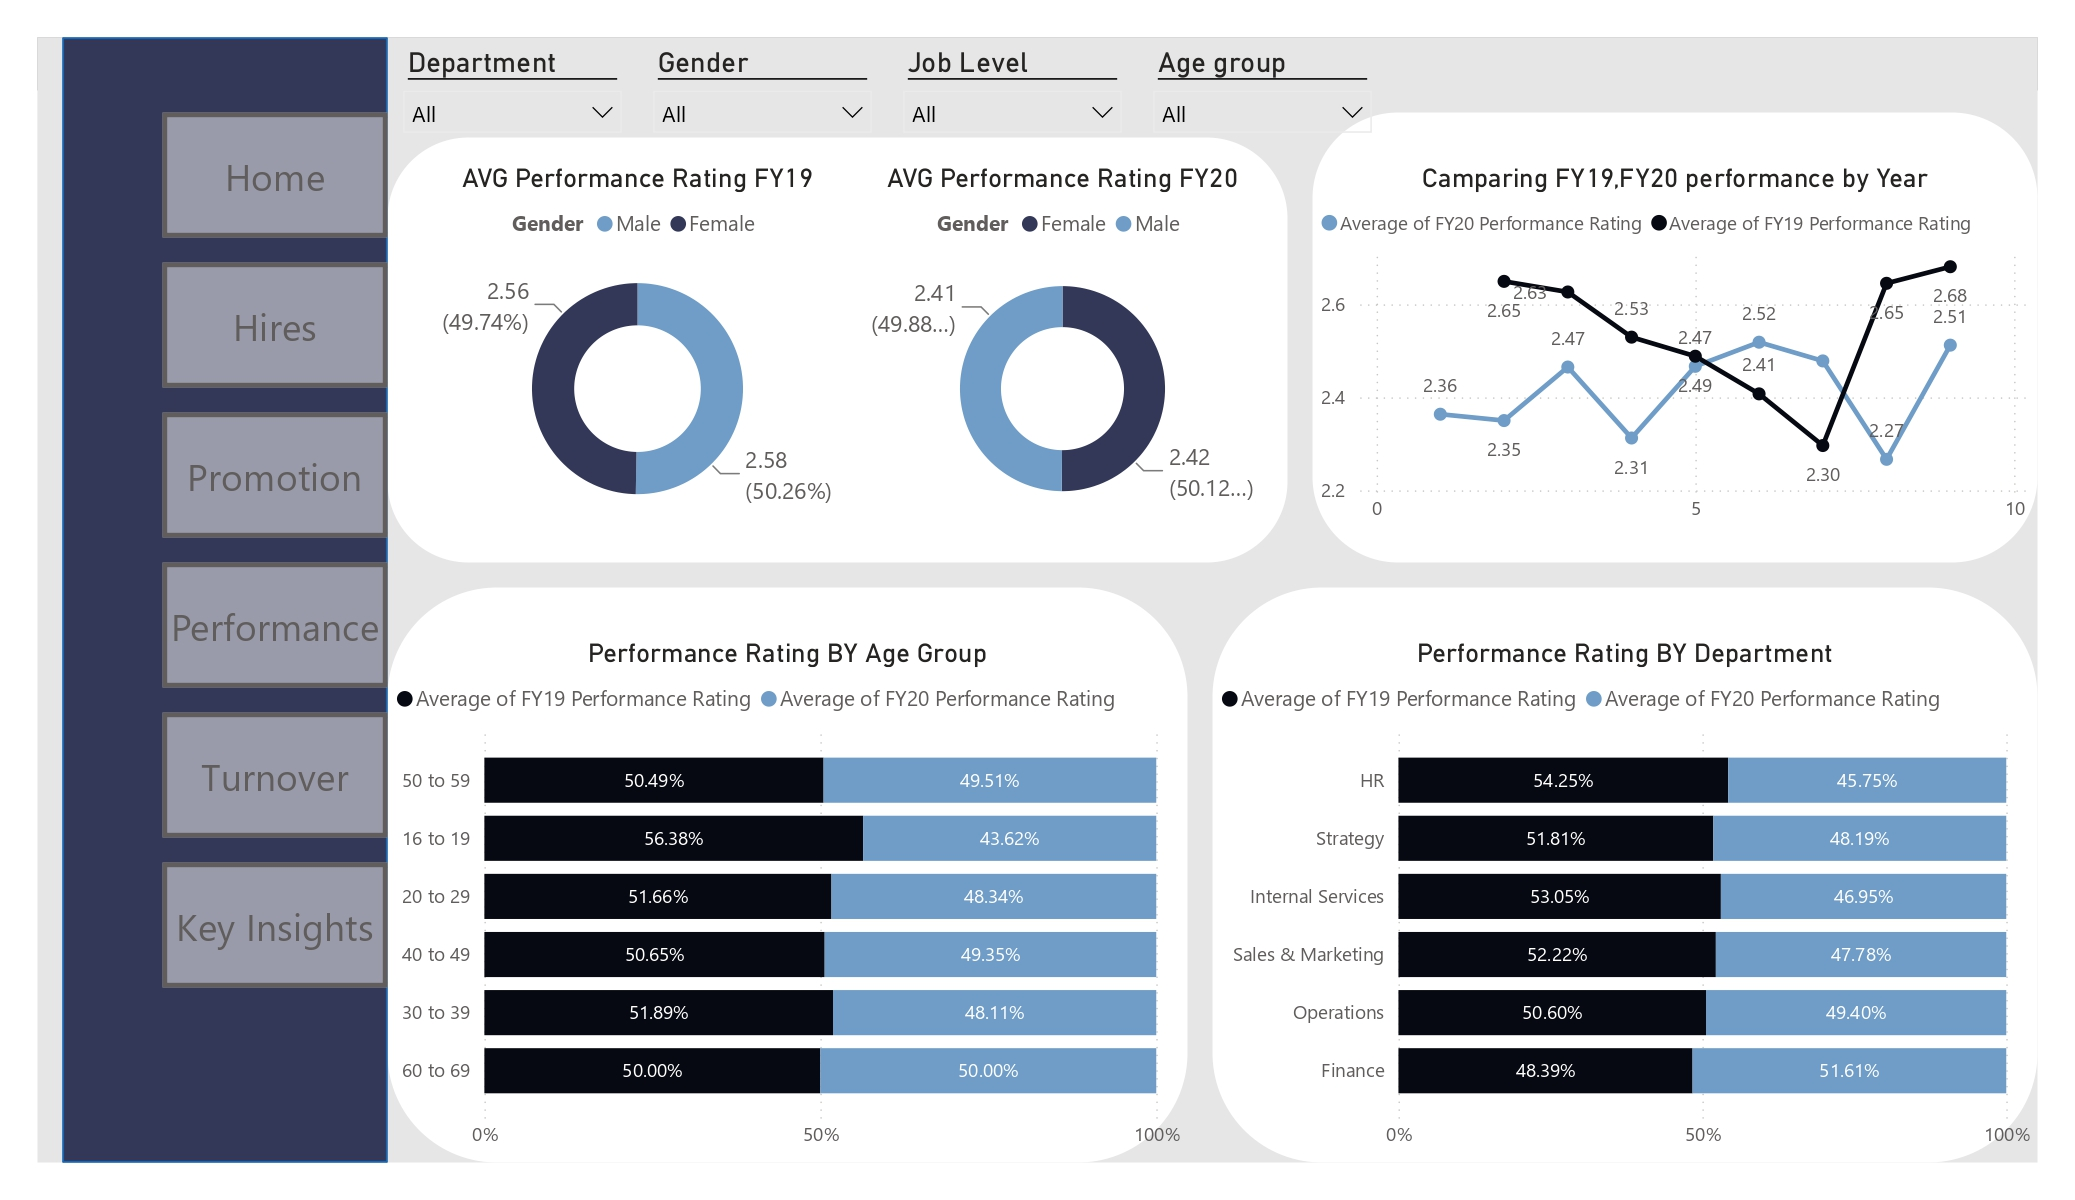

The dashboard page shown, as its layout file describes it:
{"tool":"powerbi","page":{"name":"Performance","canvas":[1280,720],"ordinal":3},"visuals":[{"type":"shape","box":[816,48,464,288],"z":0},{"type":"shape","box":[752,352,528,368],"z":1000},{"type":"shape","box":[224,352,512,368],"z":2000},{"type":"shape","box":[224,64,576,272],"z":3000},{"type":"shape","box":[16,0,208,720],"z":4000},{"type":"actionButton","box":[80,144,144,80],"z":5000},{"type":"actionButton","box":[80,240,144,80],"z":6000},{"type":"actionButton","box":[80,336,144,80],"z":7000},{"type":"actionButton","box":[80,432,144,80],"z":8000},{"type":"actionButton","box":[80,528,144,80],"z":9000},{"type":"actionButton","box":[80,48,144,80],"z":10000},{"type":"donutChart","title":"AVG Performance Rating FY20","fields":{"Category":["Pharma Group AG.Gender"],"Y":["Avg(Pharma Group AG.FY20 Performance Rating)"]},"box":[528,80,256,240],"z":11000},{"type":"slicer","fields":{"Values":["Pharma Group AG.Last Department in FY20"]},"box":[224,0,160,64],"z":12000},{"type":"slicer","fields":{"Values":["Pharma Group AG.Gender"]},"box":[384,0,160,64],"z":13000},{"type":"slicer","fields":{"Values":["Pharma Group AG.Job Level group for PRA"]},"box":[544,0,160,64],"z":14000},{"type":"slicer","fields":{"Values":["Pharma Group AG.Age group"]},"box":[704,0,160,64],"z":15000},{"type":"donutChart","title":"AVG Performance Rating FY19","fields":{"Category":["Pharma Group AG.Gender"],"Y":["Avg(Pharma Group AG.FY19 Performance Rating)"]},"box":[240,80,288,240],"z":16000},{"type":"hundredPercentStackedBarChart","title":"Performance Rating BY Age Group","fields":{"Y":["Avg(Pharma Group AG.FY19 Performance Rating)","Avg(Pharma Group AG.FY20 Performance Rating)"],"Category":["Pharma Group AG.Age group"]},"box":[224,384,512,336],"z":17000},{"type":"hundredPercentStackedBarChart","title":"Performance Rating BY Department","fields":{"Y":["Avg(Pharma Group AG.FY19 Performance Rating)","Avg(Pharma Group AG.FY20 Performance Rating)"],"Category":["Pharma Group AG.Last Department in FY20"]},"box":[752,384,528,336],"z":18000},{"type":"lineChart","title":"Camparing FY19,FY20 performance by Year","fields":{"Y":["Avg(Pharma Group AG.FY20 Performance Rating)","Avg(Pharma Group AG.FY19 Performance Rating)"],"Category":["Pharma Group AG.Years since last hire"]},"box":[816,80,464,240],"z":19000}]}

Visuals, with their boxes on the page's 1280x720 design canvas (x1, y1, x2, y2). These are canvas units, not pixel positions in the 2075x1200 screenshot, which may show the page scaled, cropped or inside an application window:
shape: left=816, top=48, right=1280, bottom=336
shape: left=752, top=352, right=1280, bottom=720
shape: left=224, top=352, right=736, bottom=720
shape: left=224, top=64, right=800, bottom=336
shape: left=16, top=0, right=224, bottom=720
actionButton: left=80, top=144, right=224, bottom=224
actionButton: left=80, top=240, right=224, bottom=320
actionButton: left=80, top=336, right=224, bottom=416
actionButton: left=80, top=432, right=224, bottom=512
actionButton: left=80, top=528, right=224, bottom=608
actionButton: left=80, top=48, right=224, bottom=128
"AVG Performance Rating FY20" donutChart: left=528, top=80, right=784, bottom=320
slicer - Pharma Group AG.Last Department in FY20: left=224, top=0, right=384, bottom=64
slicer - Pharma Group AG.Gender: left=384, top=0, right=544, bottom=64
slicer - Pharma Group AG.Job Level group for PRA: left=544, top=0, right=704, bottom=64
slicer - Pharma Group AG.Age group: left=704, top=0, right=864, bottom=64
"AVG Performance Rating FY19" donutChart: left=240, top=80, right=528, bottom=320
"Performance Rating BY Age Group" hundredPercentStackedBarChart: left=224, top=384, right=736, bottom=720
"Performance Rating BY Department" hundredPercentStackedBarChart: left=752, top=384, right=1280, bottom=720
"Camparing FY19,FY20 performance by Year" lineChart: left=816, top=80, right=1280, bottom=320
